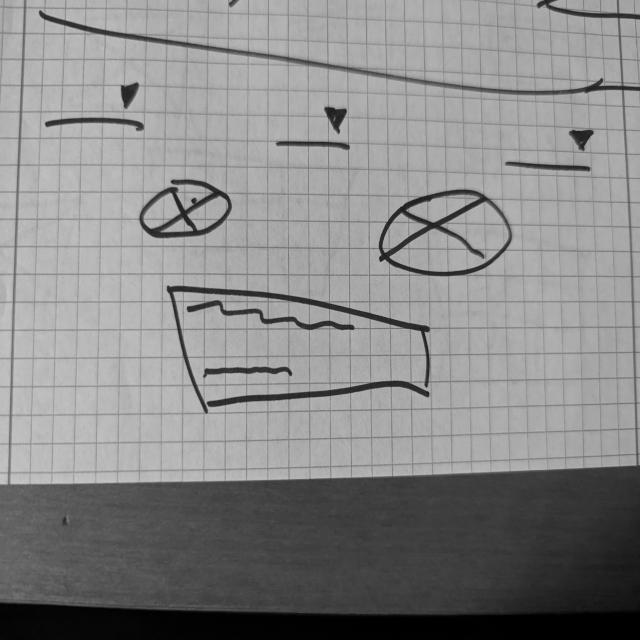image: (377, 187, 516, 279), (139, 175, 235, 243)
select: (43, 80, 149, 136), (503, 124, 599, 176), (273, 101, 356, 152)
textarea: (166, 284, 436, 416)
